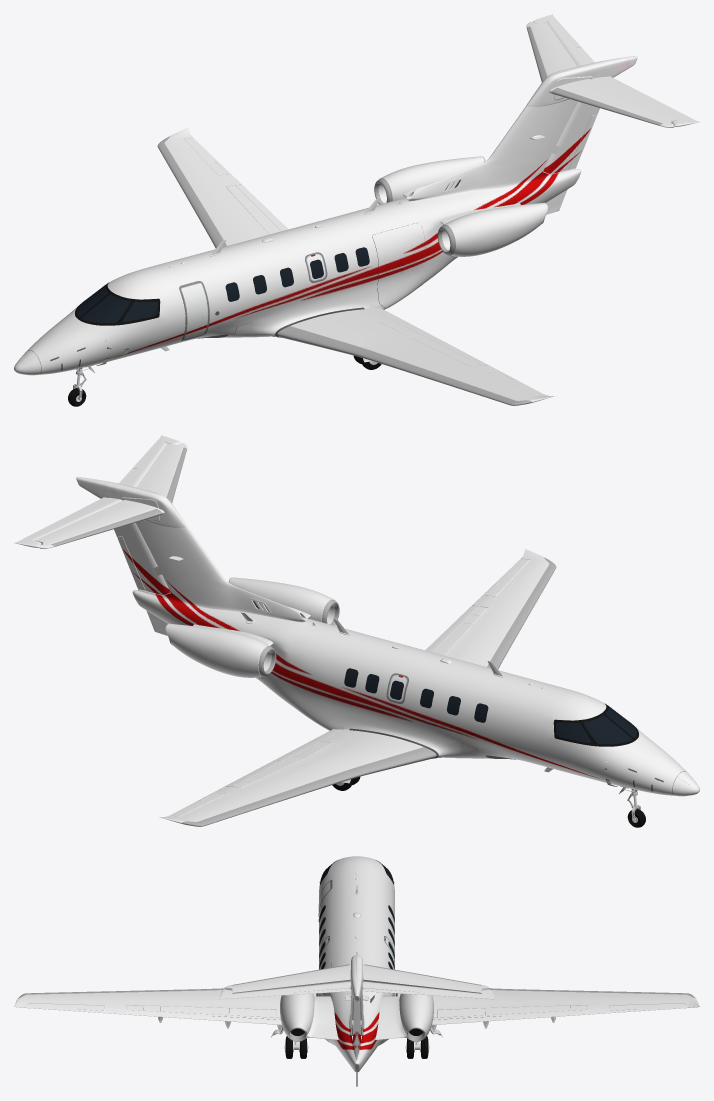
3 renders of one model, top to bottom at view 1: azimuth 30°, elevation 25°; view 2: azimuth 150°, elevation 25°; view 3: azimuth 270°, elevation 25°, orthographic. The views are drawn at different scales.
Parts seen in each view (by area): view 1: Object_5, Object_7, Object_8, Object_3, Object_4, Object_2, Object_6; view 2: Object_5, Object_7, Object_8, Object_3, Object_2, Object_6; view 3: Object_7, Object_5, Object_8, Object_3, Object_6.
Part boxes in pixels (<box>): Object_5: <box>14,56,637,375</box>; Object_7: <box>157,128,554,405</box>; Object_8: <box>77,14,699,323</box>; Object_3: <box>374,156,548,256</box>; Object_4: <box>198,222,425,338</box>; Object_2: <box>18,135,544,375</box>; Object_6: <box>68,355,381,406</box>; Object_5: <box>76,477,699,796</box>; Object_7: <box>159,549,556,826</box>; Object_8: <box>14,435,636,744</box>; Object_3: <box>165,577,339,677</box>; Object_2: <box>169,556,695,796</box>; Object_6: <box>332,776,645,827</box>; Object_7: <box>14,988,699,1032</box>; Object_5: <box>316,856,397,1086</box>; Object_8: <box>219,860,494,1057</box>; Object_3: <box>280,993,433,1041</box>; Object_6: <box>271,1027,442,1058</box>.
Size of the model in its own units: 16.67 by 5.54 by 17.
Materials: 1 (1 with a texture image).
